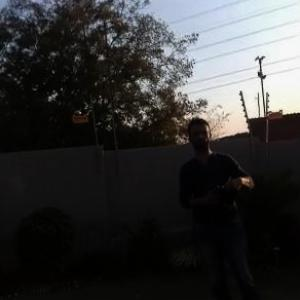follow: (173, 112, 265, 299)
